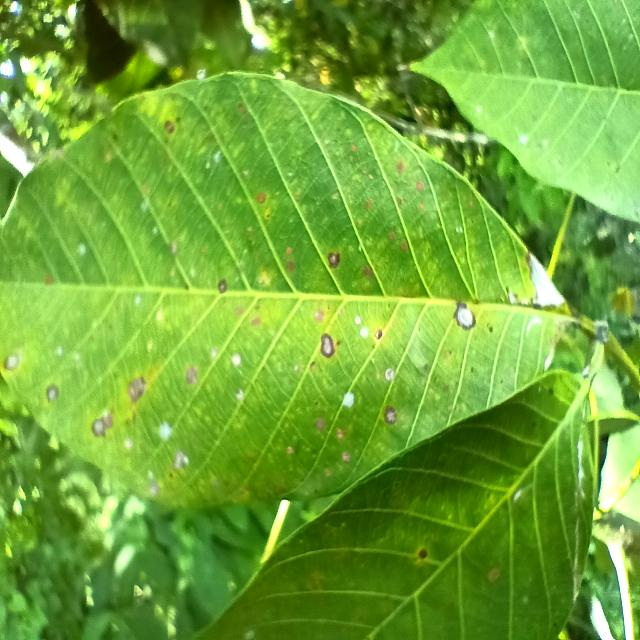Colletotrichum: (454, 302, 476, 329), (128, 378, 146, 403), (321, 332, 335, 358), (4, 352, 20, 370), (384, 406, 398, 424), (46, 384, 59, 403), (327, 252, 341, 269), (92, 419, 105, 436), (217, 278, 227, 294), (418, 548, 428, 560), (374, 329, 382, 339)
Leaf-Blight: (529, 252, 565, 305)
